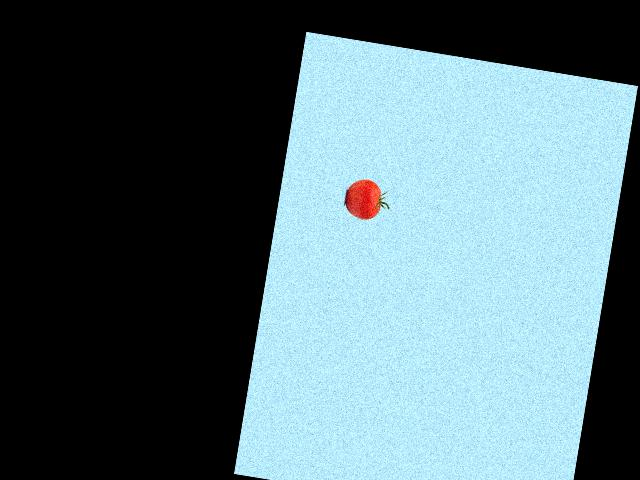tomato: (343, 176, 384, 221)
